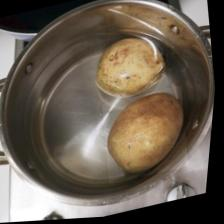Potato: (98, 87, 197, 187), (86, 27, 178, 107)
